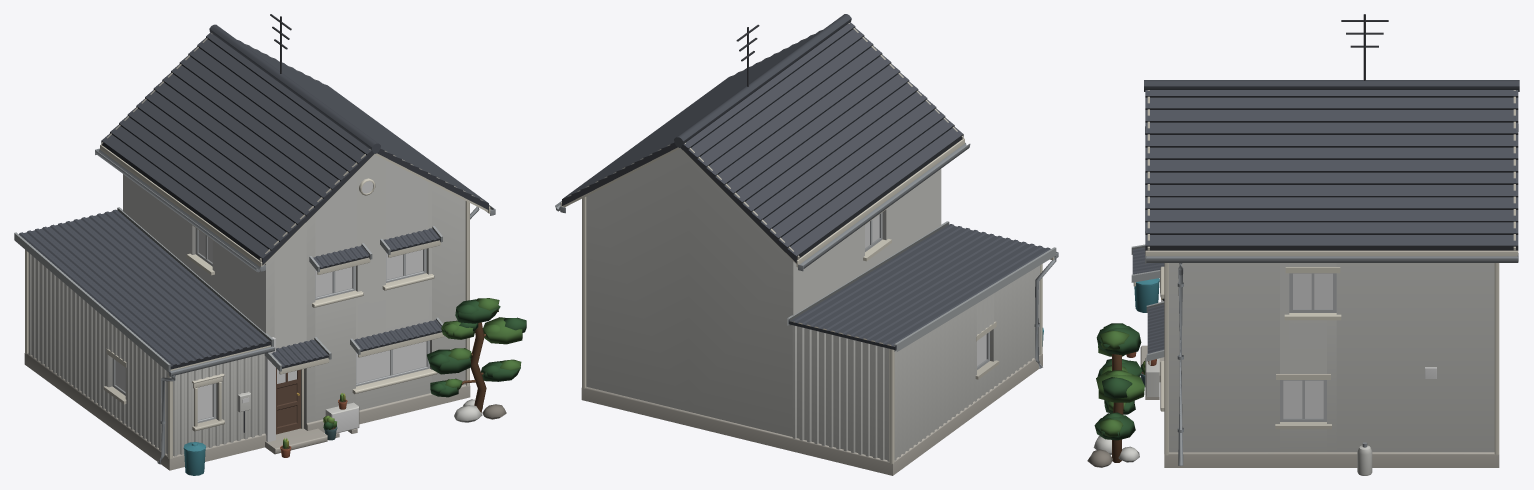
The model's file is HouseLeanTo.fbx.
3 renders of one model, left to right at view 1: azimuth 30°, elevation 25°; view 2: azimuth 150°, elevation 25°; view 3: azimuth 270°, elevation 25°, orthographic. The views are drawn at different scales.
Visible parts, largest first — view 1: HouseLeanTo; view 2: HouseLeanTo; view 3: HouseLeanTo.
Part boxes in pixels (x1,y1,x2,y2): HouseLeanTo: (14, 14, 526, 475); HouseLeanTo: (555, 14, 1058, 475); HouseLeanTo: (1087, 14, 1519, 475).
Bounding box in the file's own units: 9.69 × 9.27 × 9.16.
